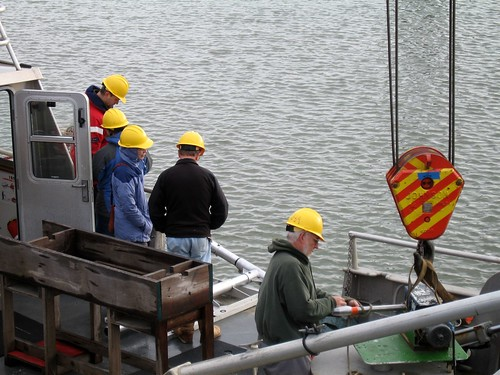person hardhat: (262, 203, 329, 372), (149, 129, 223, 272), (75, 73, 133, 223), (113, 127, 152, 257), (88, 107, 130, 225)
